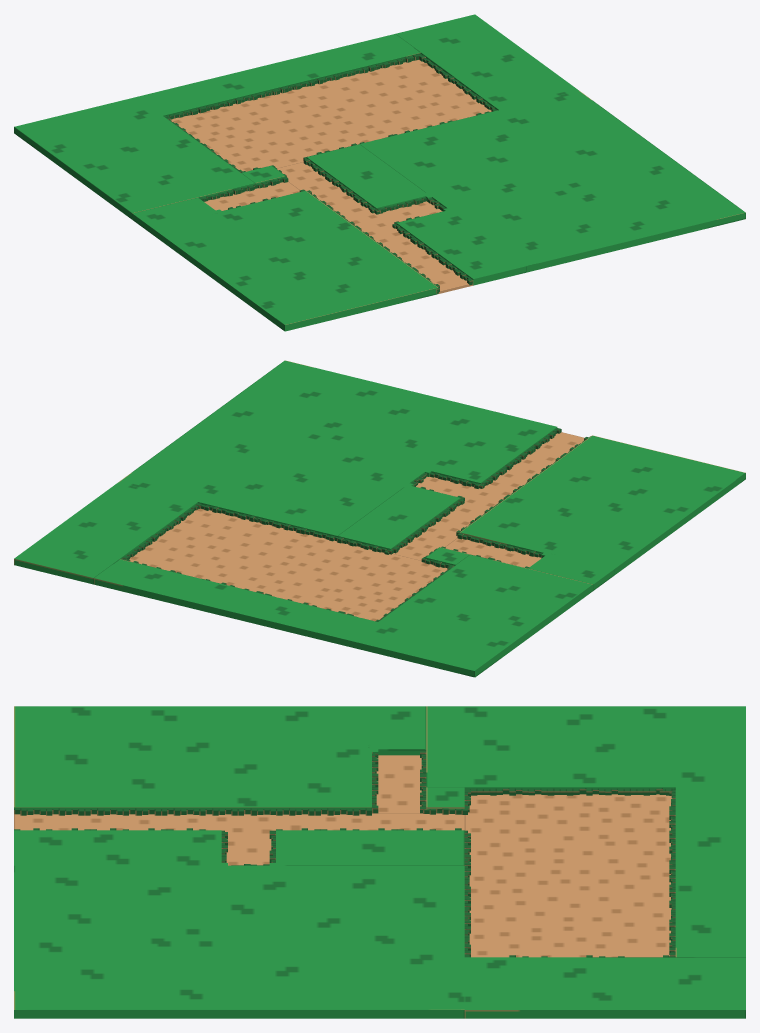
File: field.fbx
The picture shows the model from 3 angles, top to bottom: view 1: azimuth 30°, elevation 25°; view 2: azimuth 150°, elevation 25°; view 3: azimuth 270°, elevation 25°; orthographic projection. The views are drawn at different scales.
Parts seen in each view (by area): view 1: cube_5, cube_4, cube_3, cube_9, cube_8, cube_7, cube_6, cube, cube_12, cube_10, cube_2, cube_1; view 2: cube_5, cube_4, cube_3, cube_8, cube_9, cube_7, cube, cube_6, cube_12, cube_10, cube_2, cube_1; view 3: cube_5, cube_4, cube_3, cube_9, cube_8, cube_7, cube, cube_6, cube_12, cube_10, cube_2, cube_1 (+1 smaller).
Part boxes in pixels (x1,y1,x2,y2): cube_5: [360, 90, 745, 272]; cube_4: [152, 191, 438, 331]; cube_3: [171, 60, 491, 171]; cube_9: [40, 116, 255, 219]; cube_8: [14, 34, 420, 151]; cube_7: [395, 14, 578, 110]; cube_6: [396, 210, 526, 285]; cube: [277, 162, 473, 293]; cube_12: [306, 144, 429, 208]; cube_10: [132, 197, 217, 233]; cube_2: [204, 182, 299, 210]; cube_1: [379, 201, 442, 224]; cube_5: [118, 360, 503, 536]; cube_4: [459, 435, 745, 575]; cube_3: [129, 508, 447, 621]; cube_8: [94, 559, 500, 677]; cube_9: [378, 554, 593, 658]; cube_7: [14, 482, 197, 584]; cube: [393, 432, 584, 560]; cube_6: [427, 414, 557, 484]; cube_12: [337, 485, 460, 550]; cube_10: [528, 553, 614, 590]; cube_2: [445, 538, 541, 567]; cube_1: [416, 476, 477, 498]; cube_5: [14, 865, 464, 1018]; cube_4: [14, 706, 371, 809]; cube_3: [464, 794, 672, 957]; cube_9: [426, 706, 675, 789]; cube_8: [675, 706, 745, 957]; cube_7: [464, 957, 745, 1018]; cube: [14, 813, 464, 836]; cube_6: [14, 830, 221, 865]; cube_12: [276, 830, 464, 865]; cube_10: [368, 706, 426, 755]; cube_2: [376, 755, 421, 813]; cube_1: [226, 836, 271, 865].
Bounding box in the file's own units: 1406 × 18.75 × 1431.
Materials: 1 (1 with a texture image).
